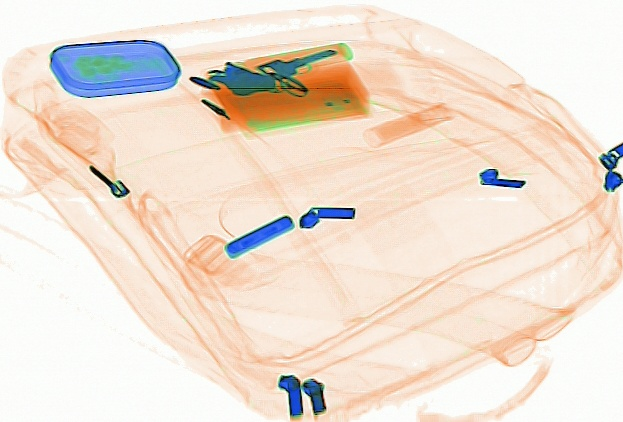pressure: (211, 40, 354, 86)
